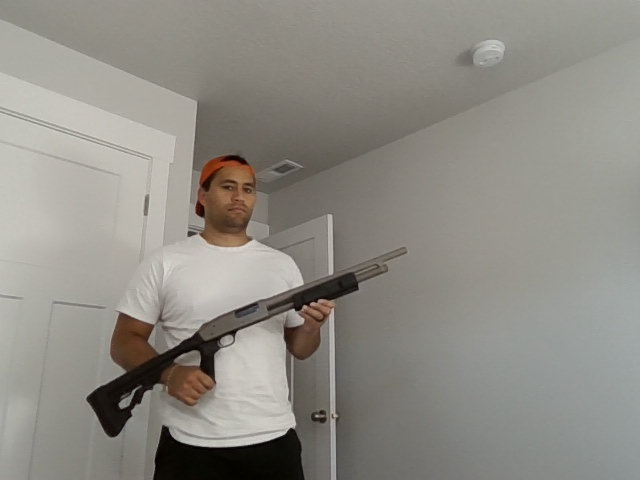shotgun: (84, 245, 409, 438)
